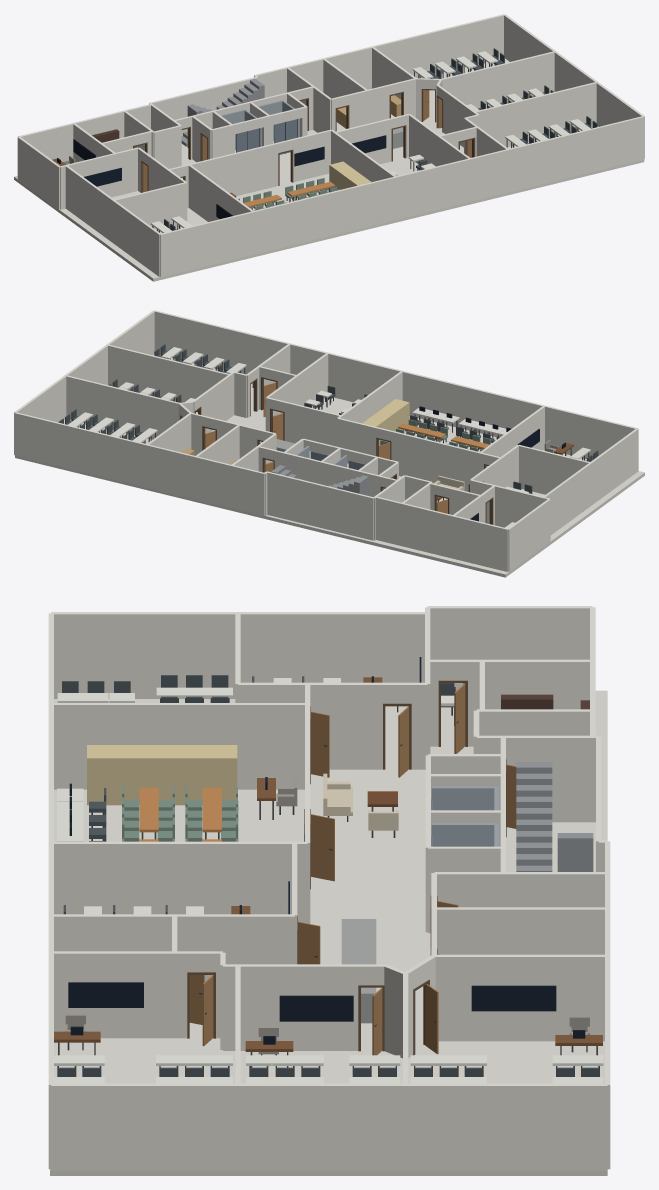
Rendered from bau-floor-2.glb.
3 views of the same model, one above another, from view 1: azimuth 30°, elevation 25°; view 2: azimuth 150°, elevation 25°; view 3: azimuth 270°, elevation 25° (orthographic). The views are drawn at different scales.
Visible parts, largest first — view 1: Wall_20006, Wall_20004, Floor_slab, Wall_20007, Wall_20035, Wall_20032, Wall_20005, Wall_20019_2, Wall_20000, Wall_20017, Wall_20009, Wall_20015 (+27 smaller); view 2: Wall_20006, Wall_20004, Wall_20000, Floor_slab, Wall_20002, Wall_20007, Wall_20032, Wall_20035, Wall_20005, Wall_20019_2, Wall_20017, Wall_20020_2 (+21 smaller); view 3: Wall_20005, Floor_slab, Wall_20007, Wall_20038, Wall_20018, Wall_20029, Wall_20040, Wall_20037_2, Wall_20034_2, Wall_20009, Wall_20028, shelf_113 (+27 smaller).
Part boxes in pixels (<box>): Wall_20006: <box>160,116,644,276</box>; Wall_20004: <box>254,14,504,97</box>; Floor_slab: <box>14,58,644,281</box>; Wall_20007: <box>65,166,160,276</box>; Wall_20035: <box>474,82,596,146</box>; Wall_20032: <box>441,51,554,108</box>; Wall_20005: <box>504,14,644,158</box>; Wall_20019_2: <box>184,143,278,207</box>; Wall_20000: <box>18,104,151,161</box>; Wall_20017: <box>113,182,186,231</box>; Wall_20009: <box>17,137,59,209</box>; Wall_20015: <box>60,147,138,208</box>; Wall_20006: <box>154,310,637,459</box>; Wall_20004: <box>14,412,264,515</box>; Wall_20000: <box>376,496,508,571</box>; Floor_slab: <box>15,354,644,577</box>; Wall_20002: <box>267,471,373,540</box>; Wall_20007: <box>543,428,638,535</box>; Wall_20032: <box>66,375,179,439</box>; Wall_20035: <box>107,345,228,402</box>; Wall_20005: <box>14,310,154,454</box>; Wall_20019_2: <box>391,431,484,491</box>; Wall_20017: <box>518,444,590,494</box>; Wall_20020_2: <box>274,450,381,496</box>; Wall_20005: <box>51,1083,607,1170</box>; Floor_slab: <box>50,690,607,1175</box>; Wall_20007: <box>51,612,427,698</box>; Wall_20038: <box>51,841,307,923</box>; Wall_20018: <box>51,703,307,789</box>; Wall_20029: <box>434,954,607,1041</box>; Wall_20040: <box>51,914,294,981</box>; Wall_20037_2: <box>51,951,187,1038</box>; Wall_20034_2: <box>223,964,358,1050</box>; Wall_20009: <box>427,606,592,690</box>; Wall_20028: <box>434,907,607,954</box>; shelf_113: <box>87,745,237,805</box>.
Bounding box in the file's own units: 32.87 × 2.9 × 16.26.
